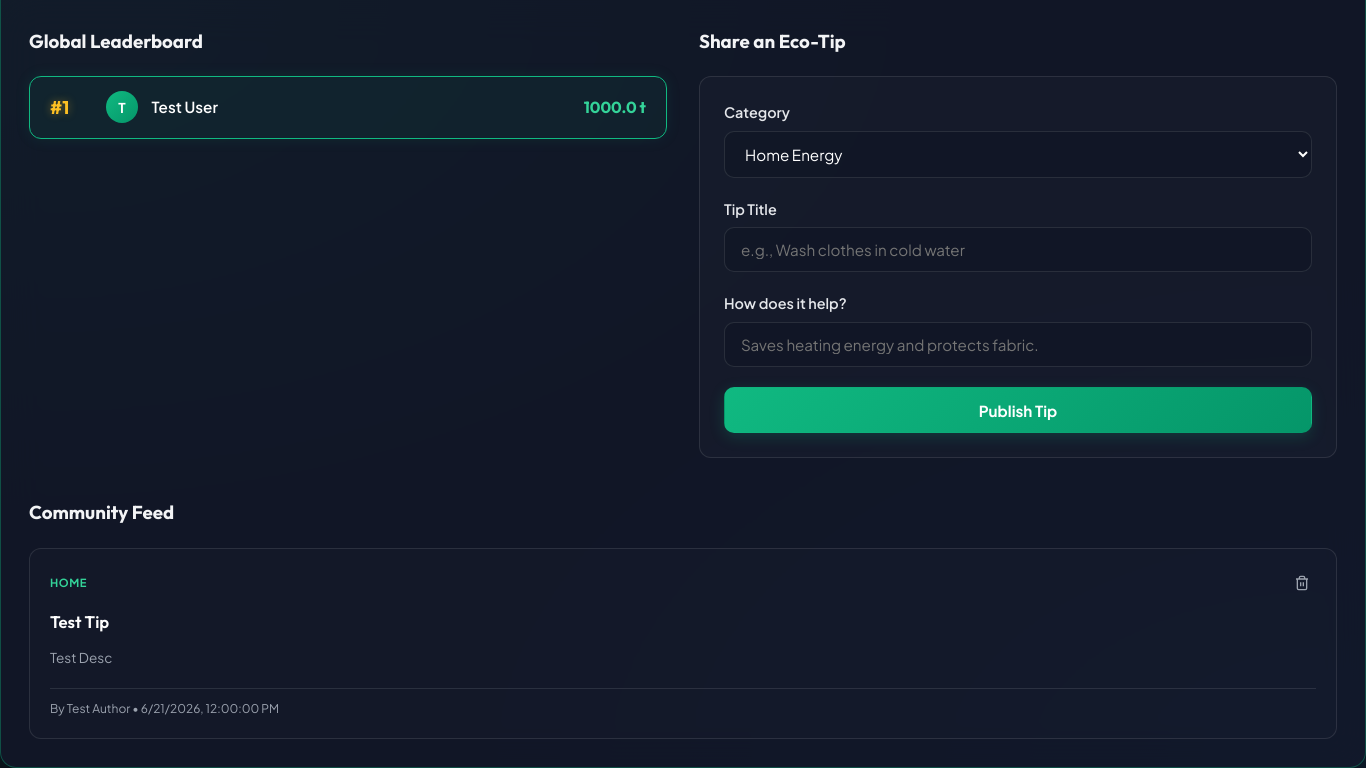
Scenario: CommunityHub › allows canceling tip deletion
(page scrolled)
Click delete button
Click the button named "delete this tip" at (1302, 583), box x1=1288 y1=569 x2=1316 y2=597
(page scrolled)
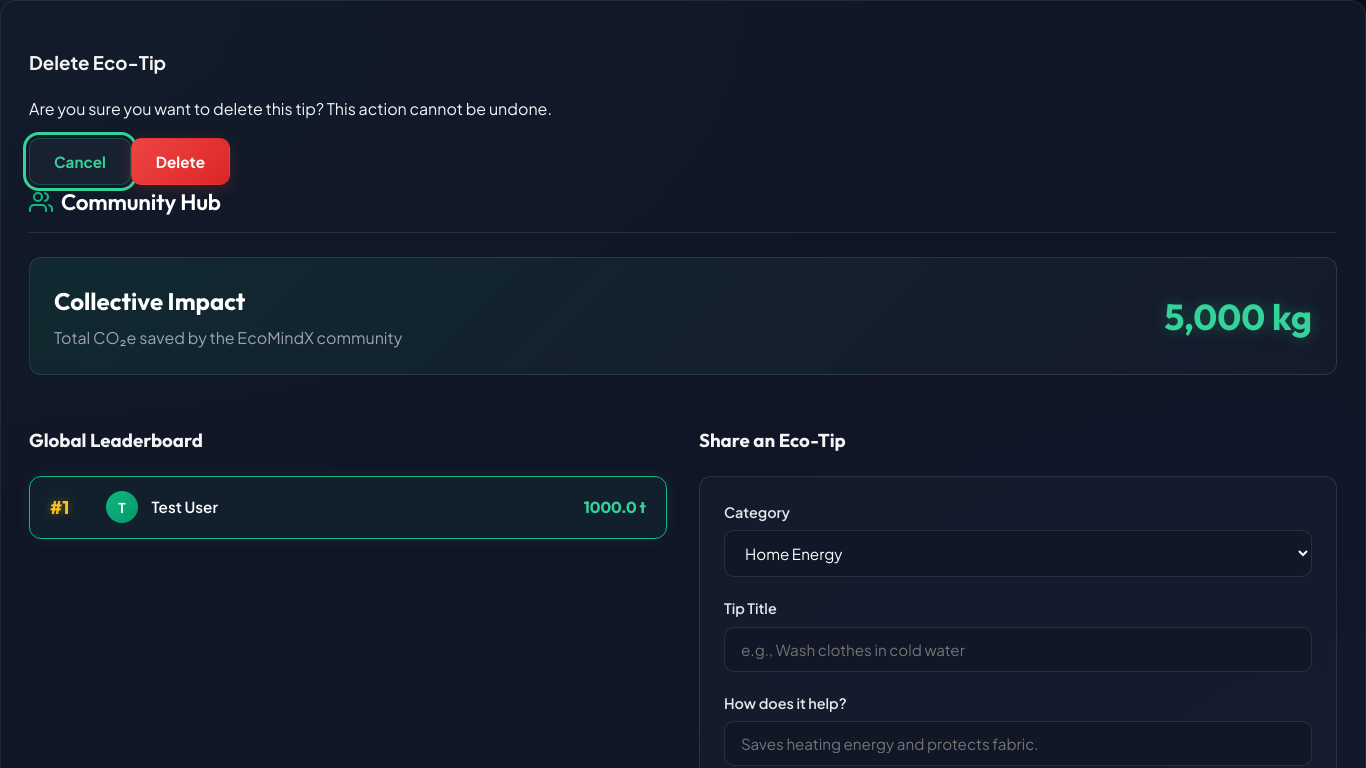
Click cancel in confirm dialog
Click the button "Cancel" at (80, 161), box x1=29 y1=138 x2=131 y2=185
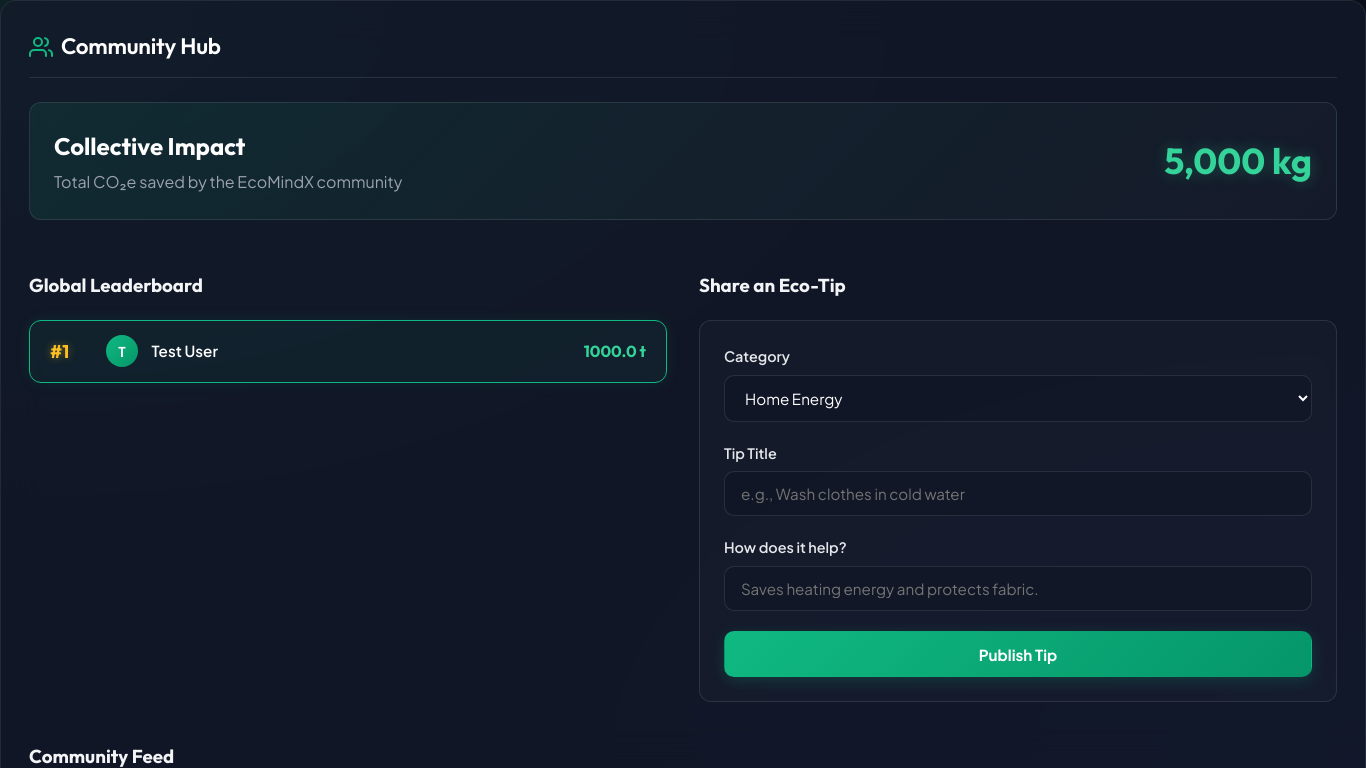
Check: the dialog is gone
